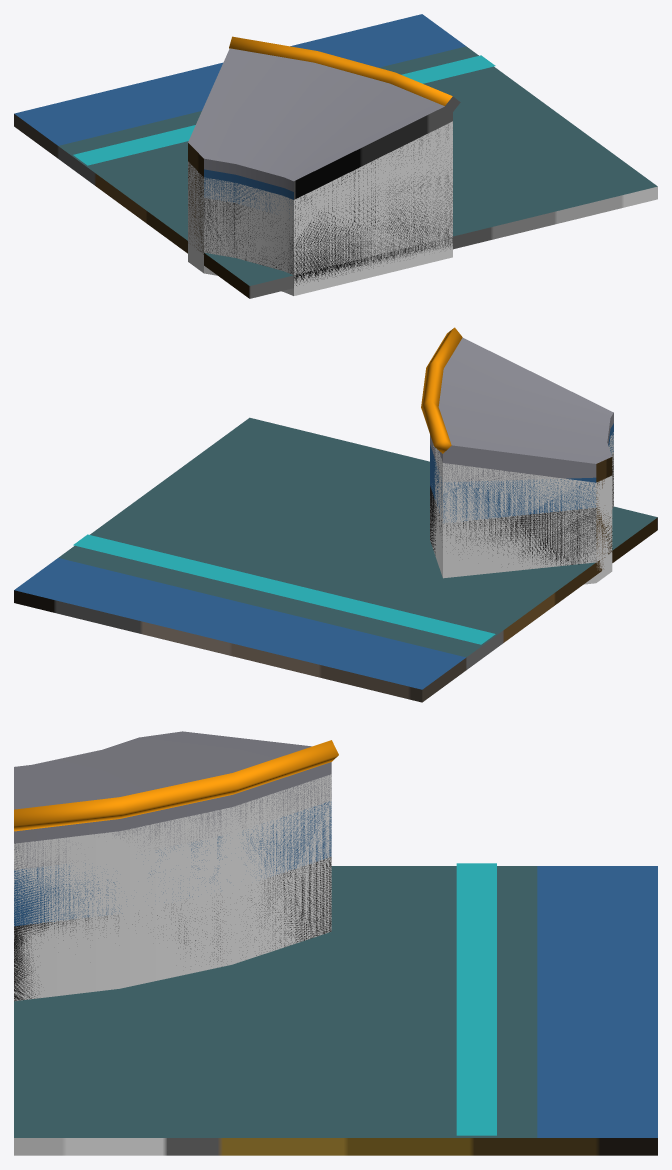
The model's file is tile_3_0_10.gltf.
3 views of the same model, one above another, from view 1: azimuth 30°, elevation 25°; view 2: azimuth 150°, elevation 25°; view 3: azimuth 270°, elevation 25° (orthographic). The views are drawn at different scales.
Parts seen in each view (by area): view 1: ground, grindcurve.02, grindcurve.01_curve, grindcurve.004, decal.main; view 2: ground, grindcurve.02, grindcurve.01_curve, decal.main, grindcurve.004; view 3: ground, grindcurve.01_curve, grindcurve.02, decal.main, grindcurve.004.
Boxes of the visible parts, box(x1,y1,x2,y2) form: ground: box(14, 14, 657, 298); grindcurve.02: box(188, 48, 452, 275); grindcurve.01_curve: box(188, 121, 452, 295); grindcurve.004: box(229, 36, 460, 111); decal.main: box(73, 55, 495, 165); ground: box(14, 417, 657, 702); grindcurve.02: box(430, 337, 613, 566); grindcurve.01_curve: box(430, 432, 613, 584); decal.main: box(73, 534, 495, 644); grindcurve.004: box(421, 327, 462, 453); ground: box(14, 866, 657, 1155); grindcurve.01_curve: box(14, 774, 331, 1000); grindcurve.02: box(14, 731, 331, 1001); decal.main: box(456, 863, 496, 1135); grindcurve.004: box(14, 740, 338, 831).
Bounding box in the file's own units: 8 × 3.02 × 8.
Materials: 2 (2 with a texture image).
